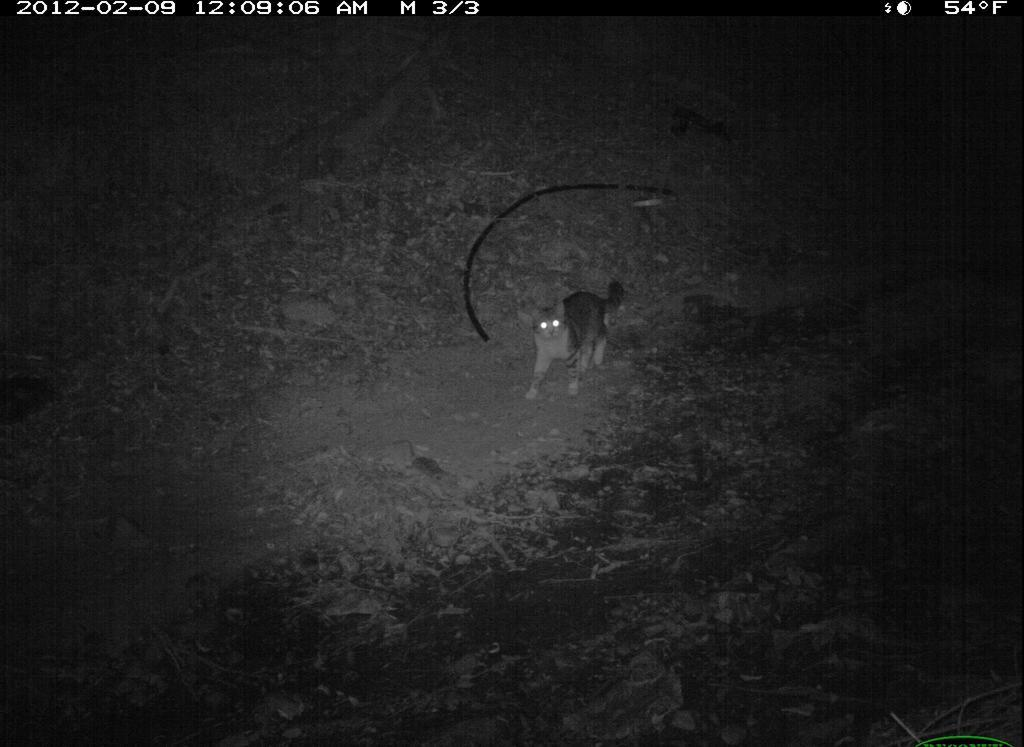cat: (515, 281, 641, 410)
